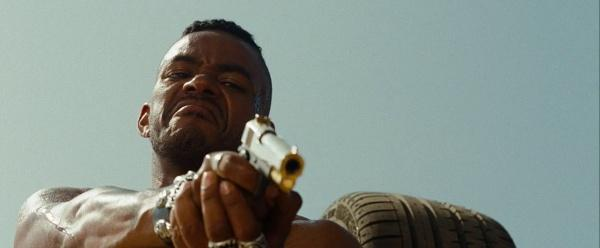Gun: (238, 113, 305, 195)
